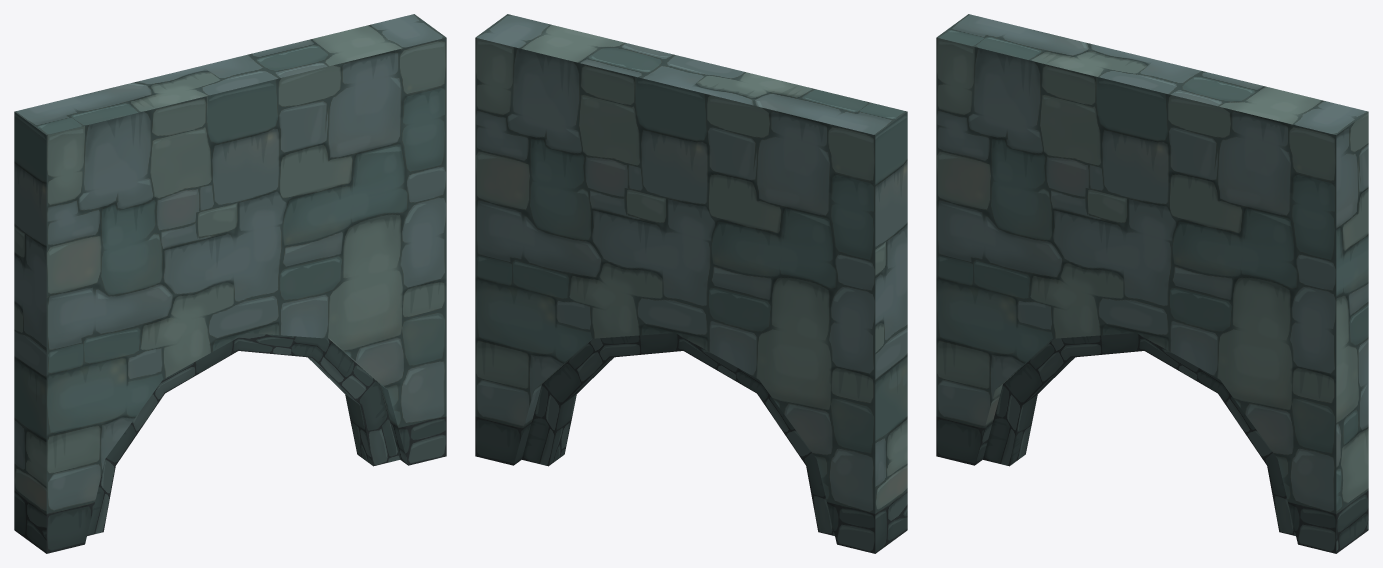
The model's file is Dg_01_wall_005.FBX.
3 views of the same model, side by side, from view 1: azimuth 30°, elevation 25°; view 2: azimuth 150°, elevation 25°; view 3: azimuth 330°, elevation 25° (orthographic).
Visible parts, largest first — view 1: Dg_01_wall_005; view 2: Dg_01_wall_005; view 3: Dg_01_wall_005.
Boxes of the visible parts, x1=… form: Dg_01_wall_005: x1=14, y1=14, x2=446, y2=553; Dg_01_wall_005: x1=475, y1=14, x2=907, y2=553; Dg_01_wall_005: x1=936, y1=14, x2=1368, y2=553.
Size of the model in its own units: 5 by 5 by 0.7001.
